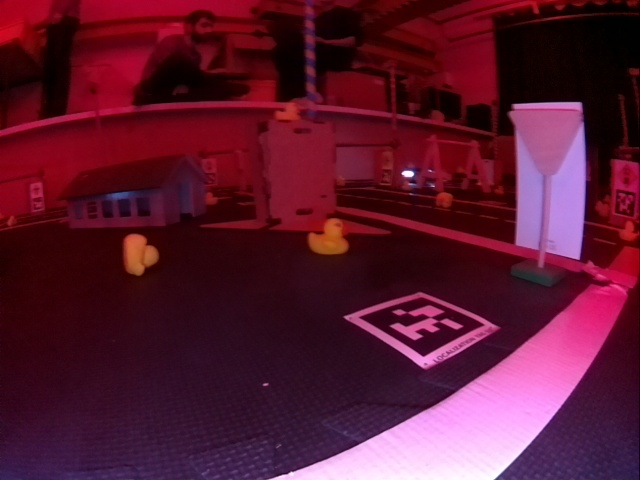Duckie: (123, 234, 157, 276), (308, 218, 345, 254), (276, 102, 302, 120), (619, 221, 636, 240), (436, 193, 452, 207)
QR code: (351, 292, 493, 363), (611, 190, 639, 216)
